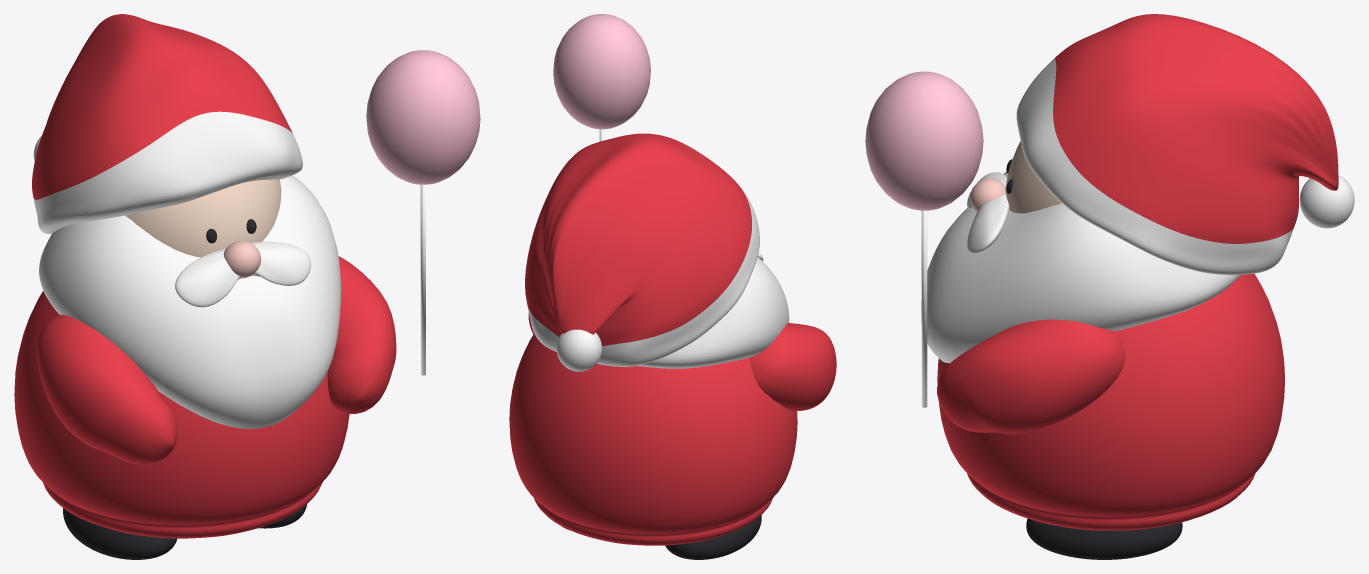
File: wheel.glb
The picture shows the model from 3 angles, left to right: view 1: azimuth 30°, elevation 25°; view 2: azimuth 150°, elevation 25°; view 3: azimuth 270°, elevation 25°; orthographic projection. The views are drawn at different scales.
Parts seen in each view (by area): view 1: wheel_red, wheel_white, wheel_pink, wheel_skin, wheel_black, wheel_nose; view 2: wheel_red, wheel_white, wheel_pink, wheel_black; view 3: wheel_red, wheel_white, wheel_pink, wheel_black, wheel_skin, wheel_nose.
Boxes of the visible parts, <box> form: wheel_red: <box>14,14,396,538</box>; wheel_white: <box>33,111,425,429</box>; wheel_pink: <box>366,50,480,184</box>; wheel_skin: <box>125,179,281,257</box>; wheel_black: <box>63,219,307,559</box>; wheel_nose: <box>223,241,261,278</box>; wheel_red: <box>509,133,836,545</box>; wheel_white: <box>527,129,789,371</box>; wheel_pink: <box>553,14,650,129</box>; wheel_black: <box>563,515,761,559</box>; wheel_red: <box>937,14,1338,530</box>; wheel_white: <box>921,58,1354,407</box>; wheel_pink: <box>865,71,983,210</box>; wheel_black: <box>1006,159,1182,559</box>; wheel_skin: <box>1005,141,1061,213</box>; wheel_nose: <box>970,178,1005,212</box>.
Bounding box in the file's own units: 2.37 × 3.1 × 2.67.
